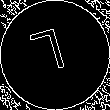L_S: (33, 26, 77, 84)
